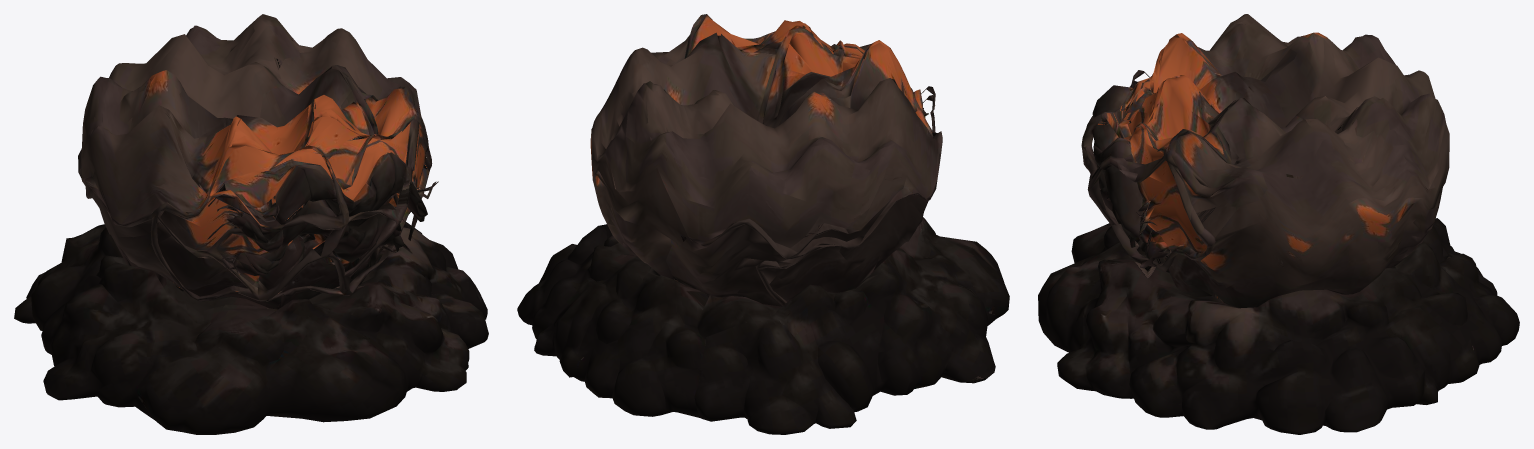
File: SM_HiveEggSac_Burned.glb
3 views of the same model, side by side, from view 1: azimuth 30°, elevation 25°; view 2: azimuth 150°, elevation 25°; view 3: azimuth 270°, elevation 25° (orthographic).
Parts seen in each view (by area): view 1: SM_HiveEggSac_Burned; view 2: SM_HiveEggSac_Burned; view 3: SM_HiveEggSac_Burned.
Boxes of the visible parts, x1,y1,x2,y2 form: SM_HiveEggSac_Burned: (14, 14, 488, 434); SM_HiveEggSac_Burned: (517, 14, 1009, 434); SM_HiveEggSac_Burned: (1038, 14, 1519, 434).
Bounding box in the file's own units: 2 × 1.22 × 1.96.
1 material, 1 textured.
